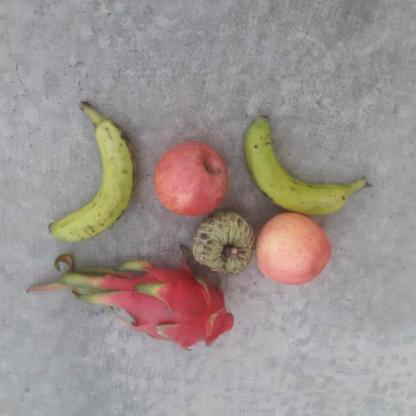annona: (190, 209, 260, 278)
apple: (153, 141, 226, 217), (257, 210, 332, 283)
banana: (236, 113, 372, 217), (48, 95, 137, 245)
pitaya: (126, 270, 234, 350)
